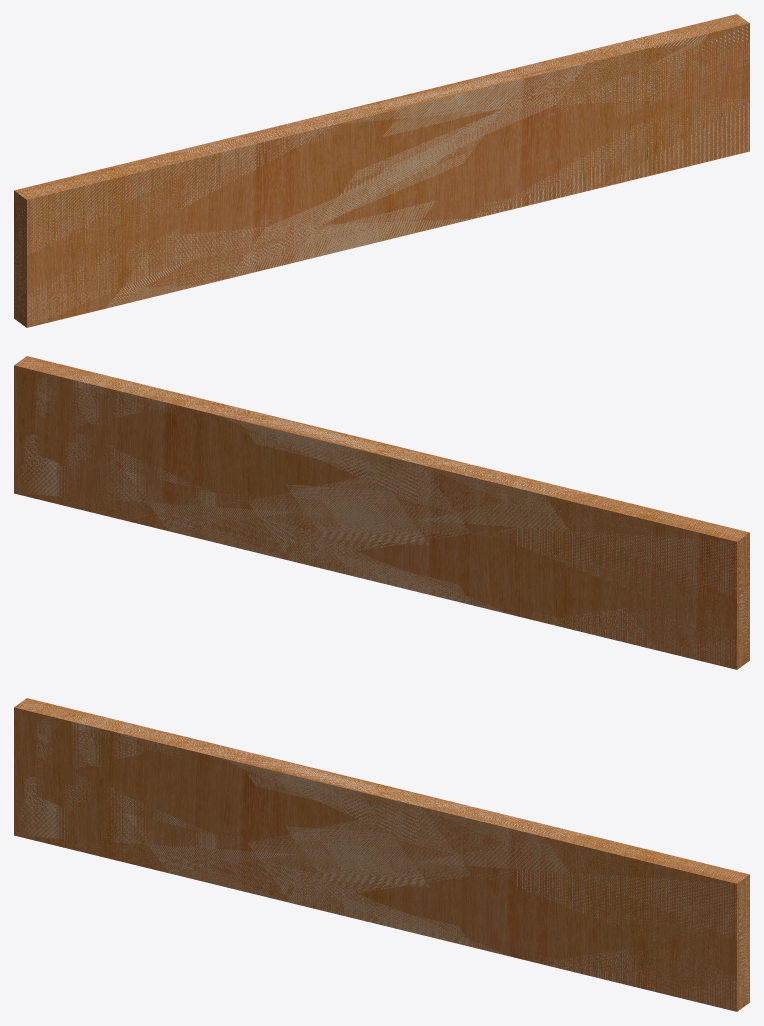
The model's file is original-7.obj.
3 views of the same model, one above another, from view 1: azimuth 30°, elevation 25°; view 2: azimuth 150°, elevation 25°; view 3: azimuth 330°, elevation 25° (orthographic).
Visible parts, largest first — view 1: drawer_back1/drawer_back/mesh10/mesh10-geometry#mesh10-geometry; view 2: drawer_back1/drawer_back/mesh10/mesh10-geometry#mesh10-geometry; view 3: drawer_back1/drawer_back/mesh10/mesh10-geometry#mesh10-geometry.
Part boxes in pixels (x1=…): drawer_back1/drawer_back/mesh10/mesh10-geometry#mesh10-geometry: x1=14, y1=14, x2=749, y2=327; drawer_back1/drawer_back/mesh10/mesh10-geometry#mesh10-geometry: x1=14, y1=356, x2=749, y2=669; drawer_back1/drawer_back/mesh10/mesh10-geometry#mesh10-geometry: x1=14, y1=698, x2=749, y2=1011.
Bounding box in the file's own units: 0.4948 × 0.0837 × 0.0152.
